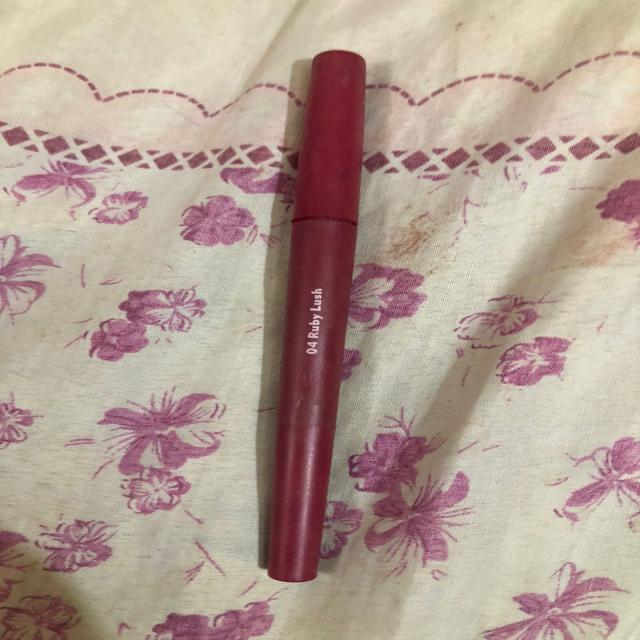lip liner: (249, 41, 383, 590)
